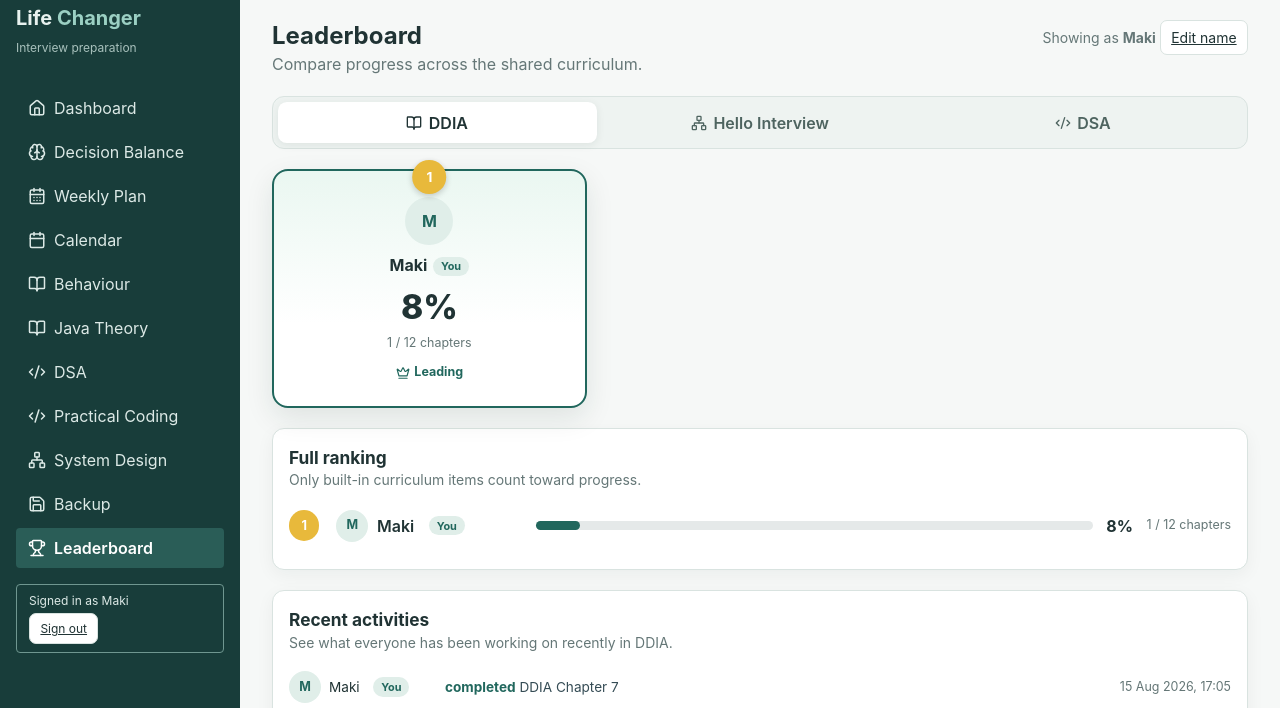
Test: Leaderboard sign-in gating › shows recent activities only for the currently selected domain tab, with a UK-formatted date and a "You" tag
Expected: the text "DDIA Chapter 7" is shown, [519,679,619,695]
Expected: the text "Two Sum" is not shown
Note: Switching to the DSA tab swaps the feed to DSA-only activities.
What coordinates should you click on to do the following:
click the button "DSA"
I would click on:
 (1083, 123)
Its box is [923,102,1242,143].
(page scrolled)
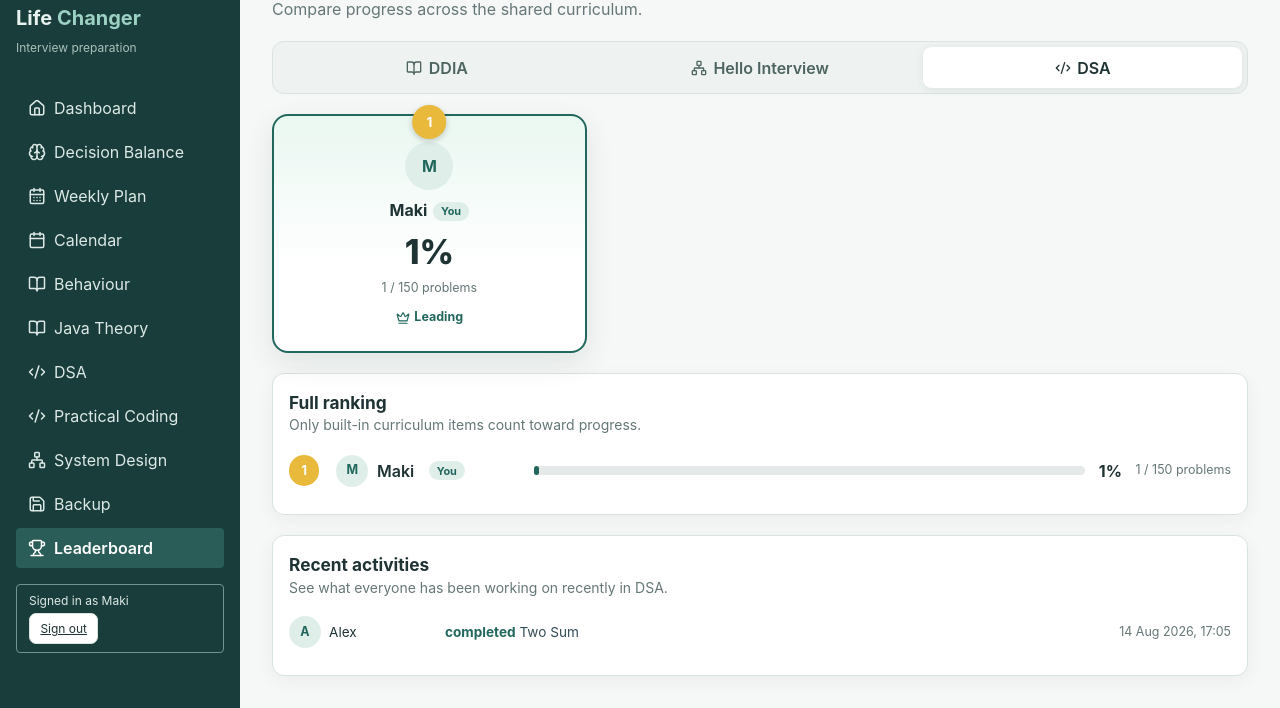
Result: the text "Two Sum" is shown at [519,624,579,640]
Result: the text "DDIA Chapter 7" is gone
Result: the element with class "leaderboard-activity-row" shows "Alex" at [329,624,357,640]
